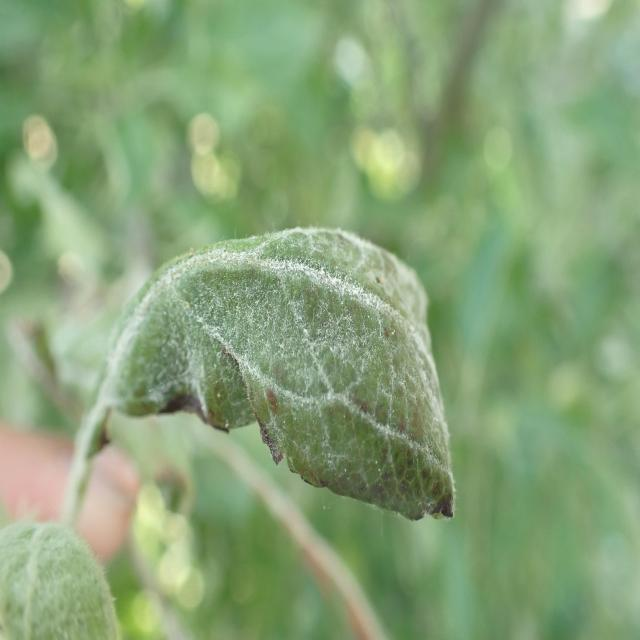Powdery_mildew: (102, 197, 470, 543)
